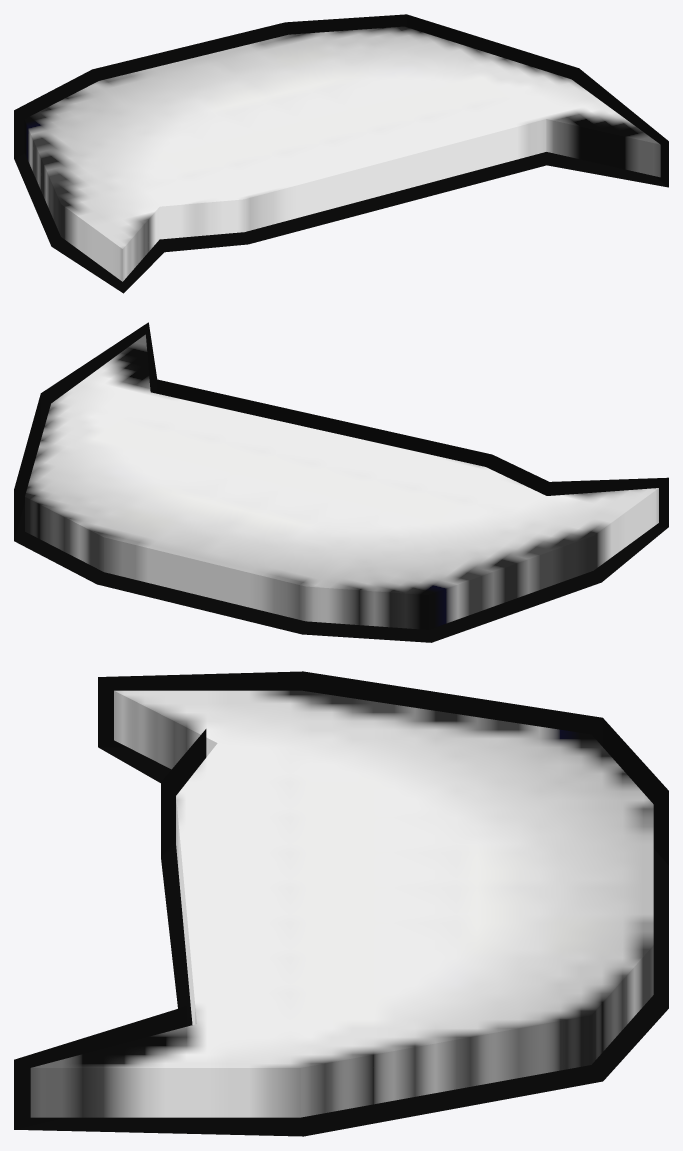
Rendered from Item_Apparel_AdvancedHelmet_Things_Pawn_Humanlike_Apparel_AdvancedHelmet_AdvancedHelmet.glb.
3 renders of one model, top to bottom at view 1: azimuth 30°, elevation 25°; view 2: azimuth 150°, elevation 25°; view 3: azimuth 270°, elevation 25°, orthographic. The views are drawn at different scales.
Parts seen in each view (by area): view 1: Body, Outline; view 2: Body, Outline; view 3: Body, Outline.
Part boxes in pixels (x1=…): Body: x1=24, y1=26, x2=660, y2=281; Outline: x1=14, y1=14, x2=668, y2=293; Body: x1=25, y1=334, x2=658, y2=629; Outline: x1=14, y1=322, x2=668, y2=642; Body: x1=30, y1=690, x2=653, y2=1117; Outline: x1=14, y1=671, x2=668, y2=1136.
Bounding box in the file's own units: 0.3474 × 0.0337 × 0.2464.
2 materials, 1 textured.
